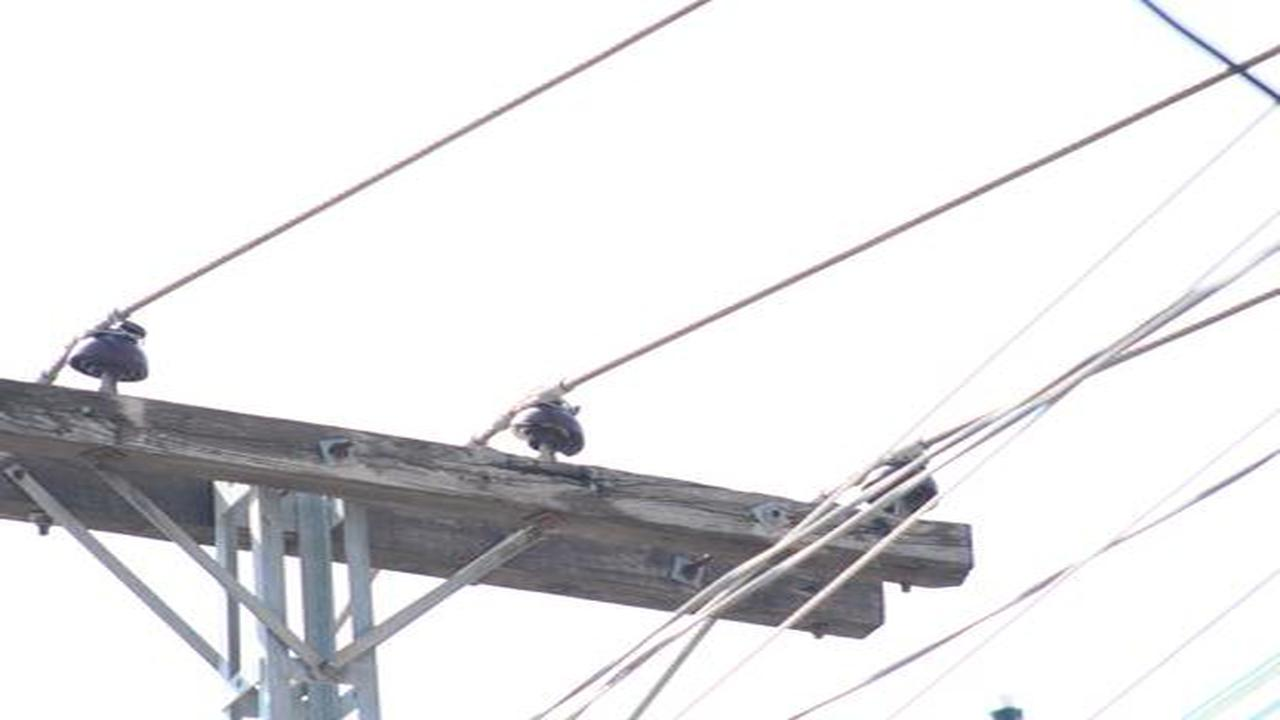insulator_pin: (73, 312, 149, 381), (511, 392, 588, 459)
